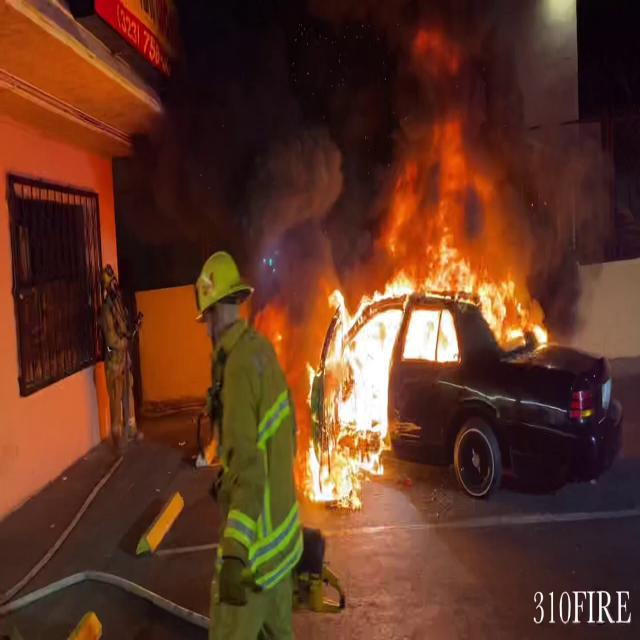Fire: (304, 148, 548, 492)
